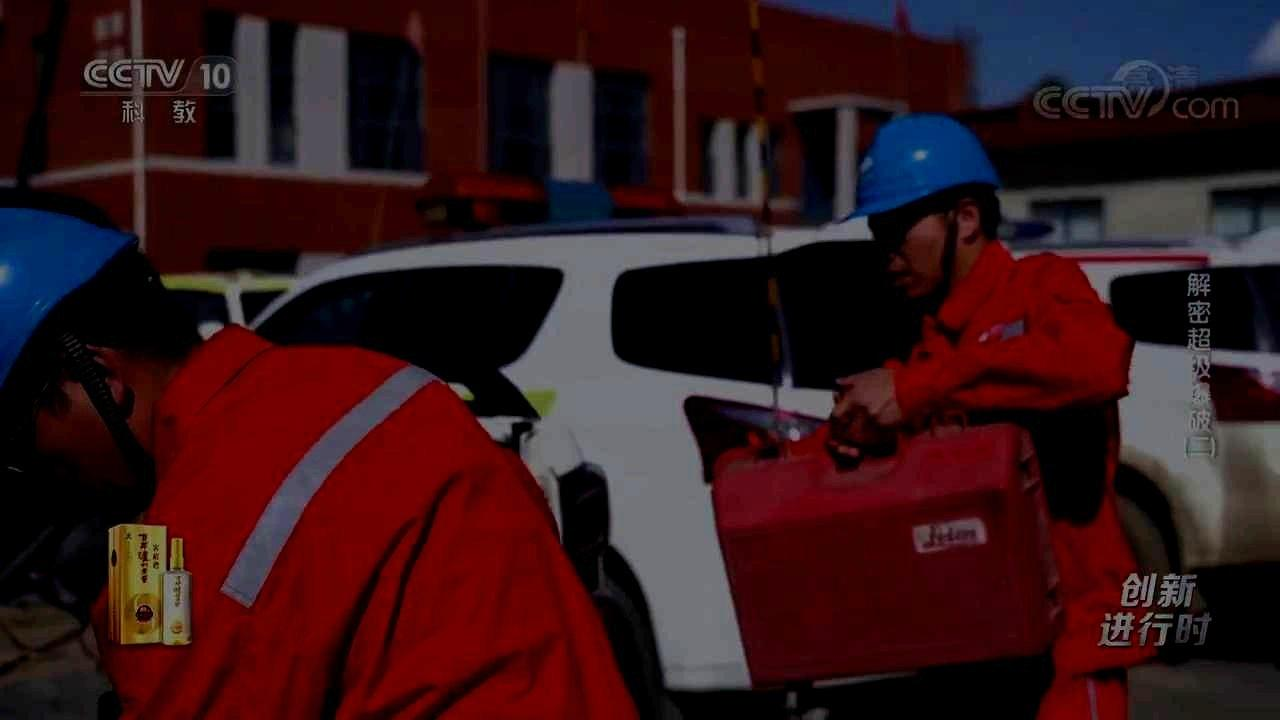helmet: (1, 206, 207, 497), (833, 113, 1001, 300)
